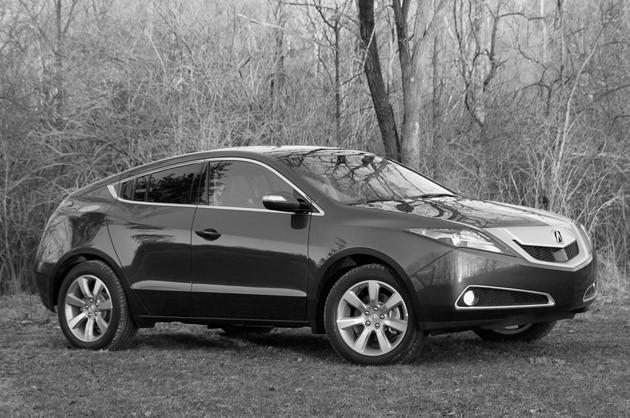car: (33, 148, 598, 368)
